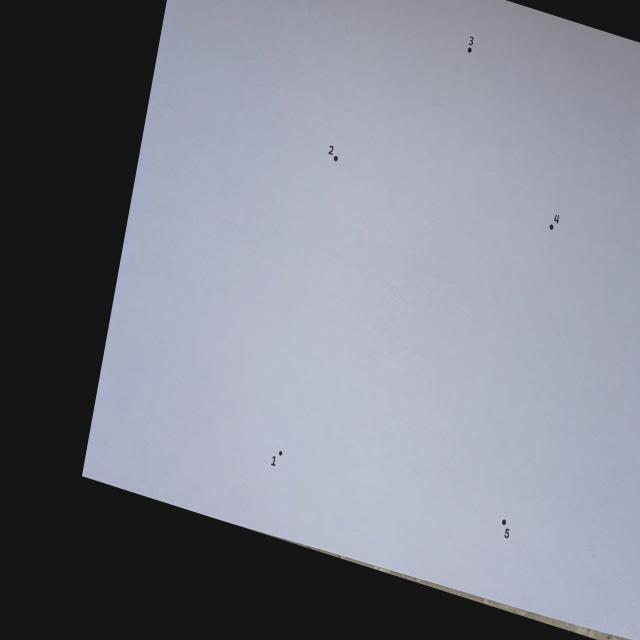Dot: (549, 224, 554, 230), (334, 155, 338, 162), (502, 519, 506, 526), (468, 47, 472, 53), (279, 451, 282, 456)
DotNumber: (271, 450, 283, 467), (501, 519, 510, 539), (328, 145, 338, 162), (550, 214, 560, 230), (468, 36, 473, 53)
Number: (328, 145, 334, 156), (504, 528, 510, 539), (468, 36, 474, 46), (554, 214, 559, 225), (271, 456, 276, 466)
